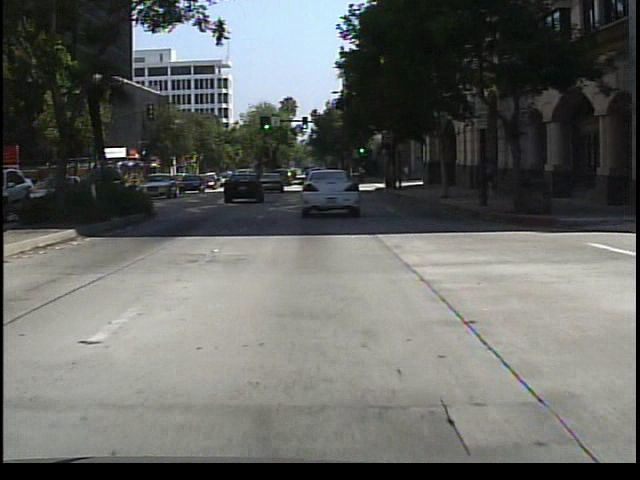person: (481, 155, 500, 203)
